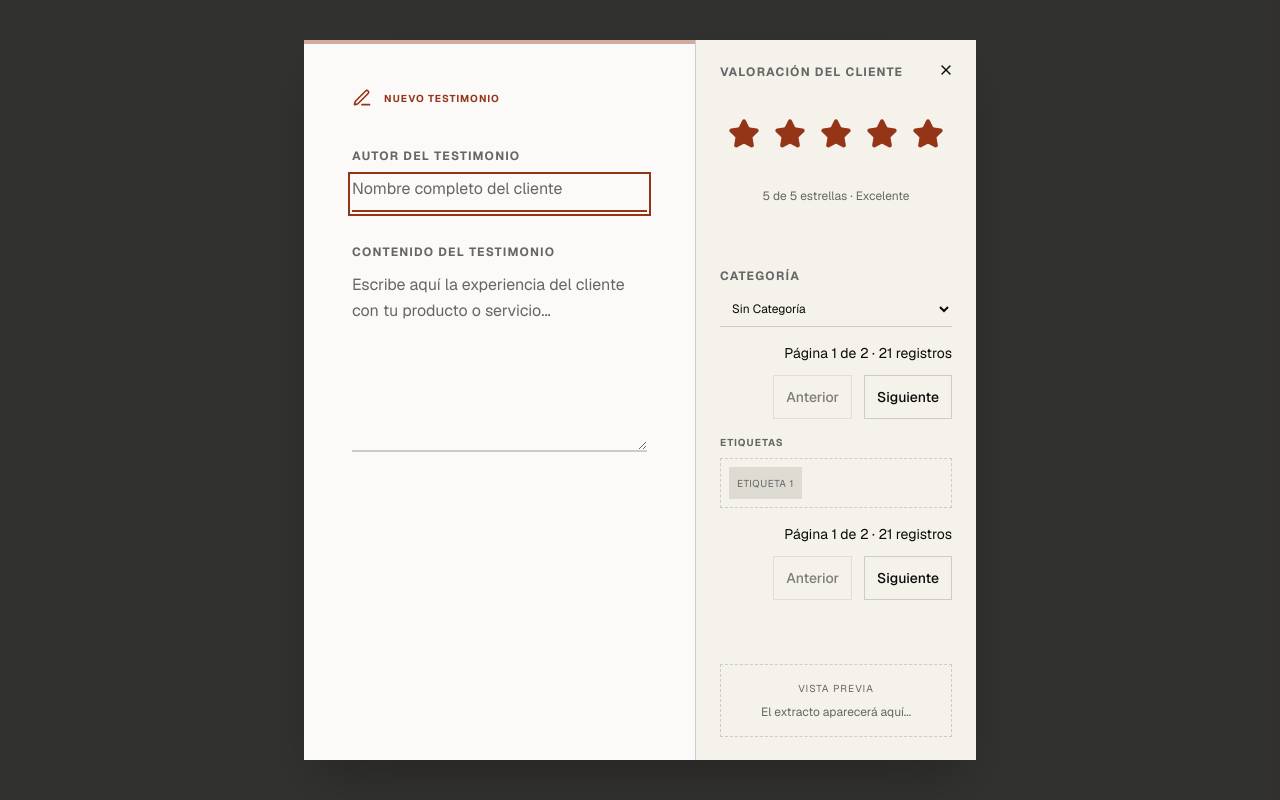
Test: Creación y borradores › bloquea submits repetidos y cierre mientras espera; conserva texto ante error
Type "Autor sintético" into the field labelled "Autor del testimonio". click: (500, 194)
box: x1=352 y1=176 x2=647 y2=212
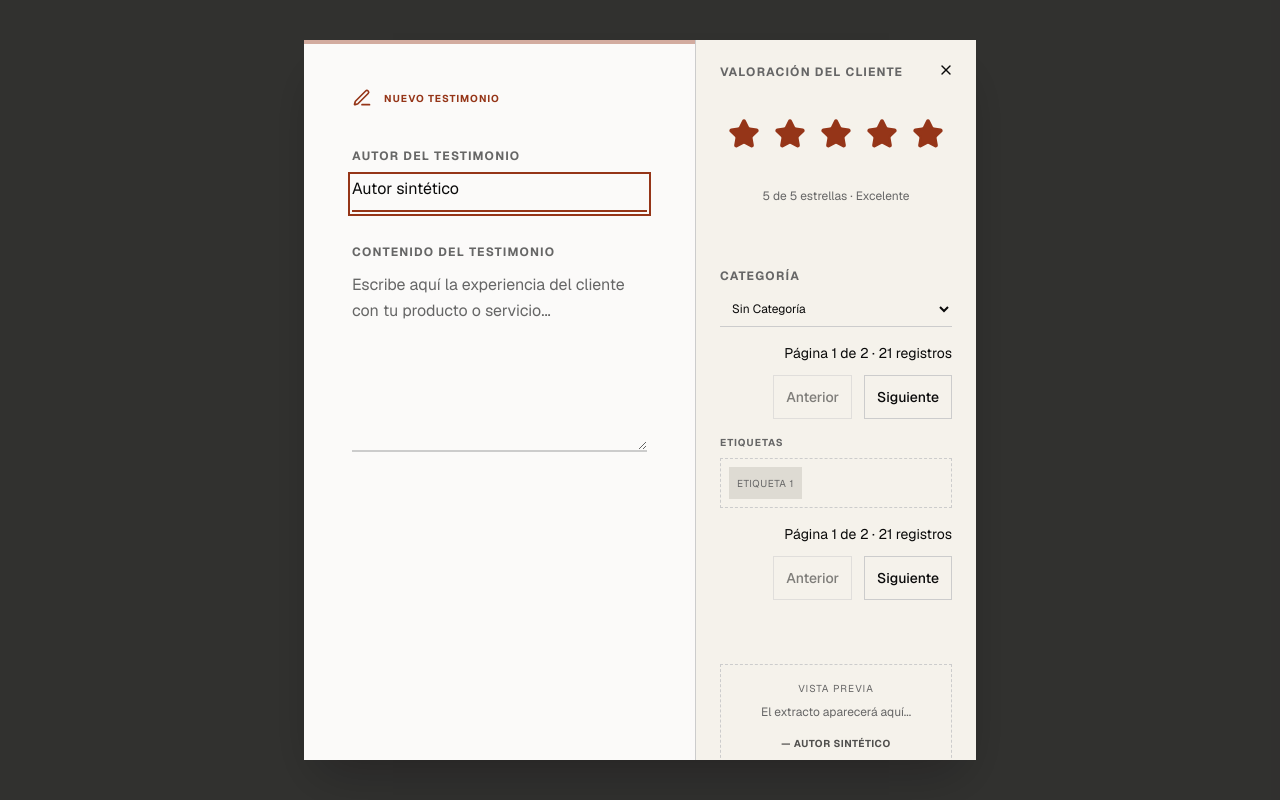
Type "Un borrador que debe conservarse" into the text box labelled "Contenido del testimonio". click: (500, 362)
box: x1=352 y1=272 x2=647 y2=452
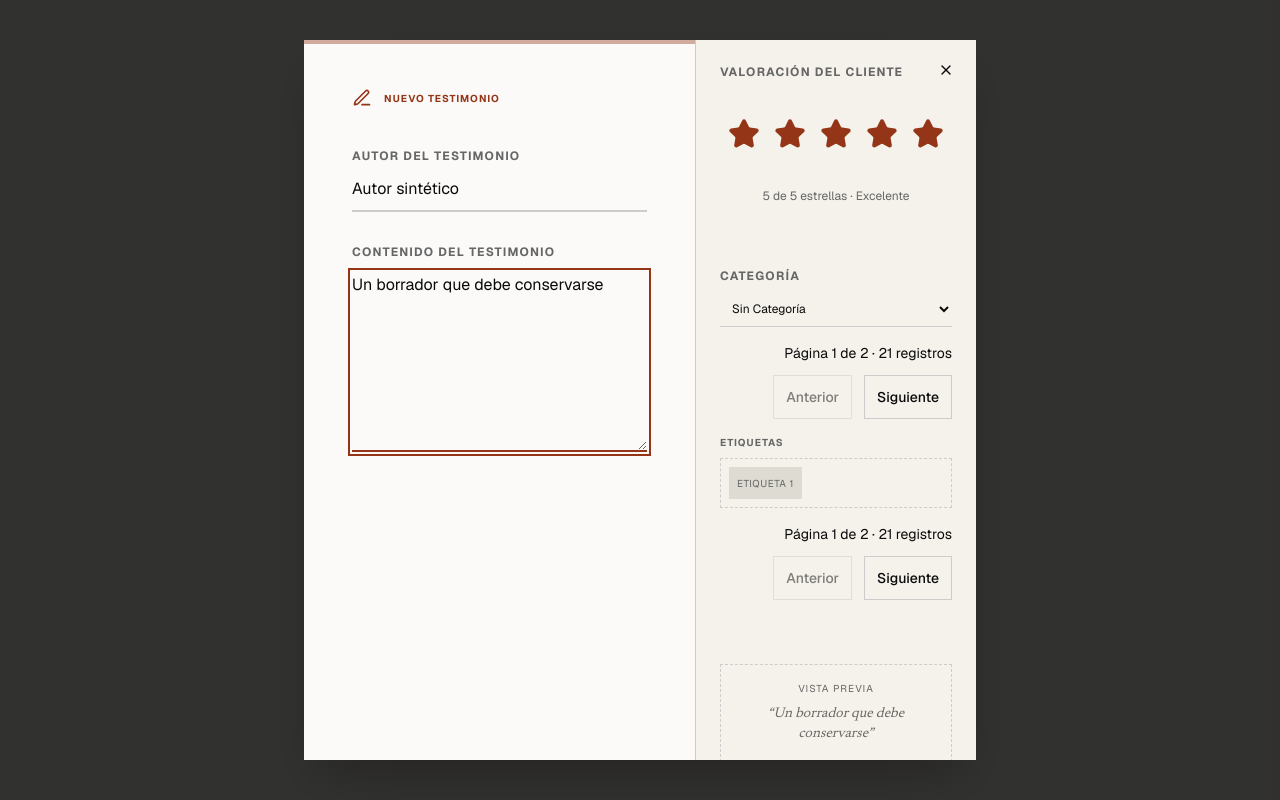
Submit the form named "Autor del testimonio", box x1=304 y1=40 x2=976 y2=760
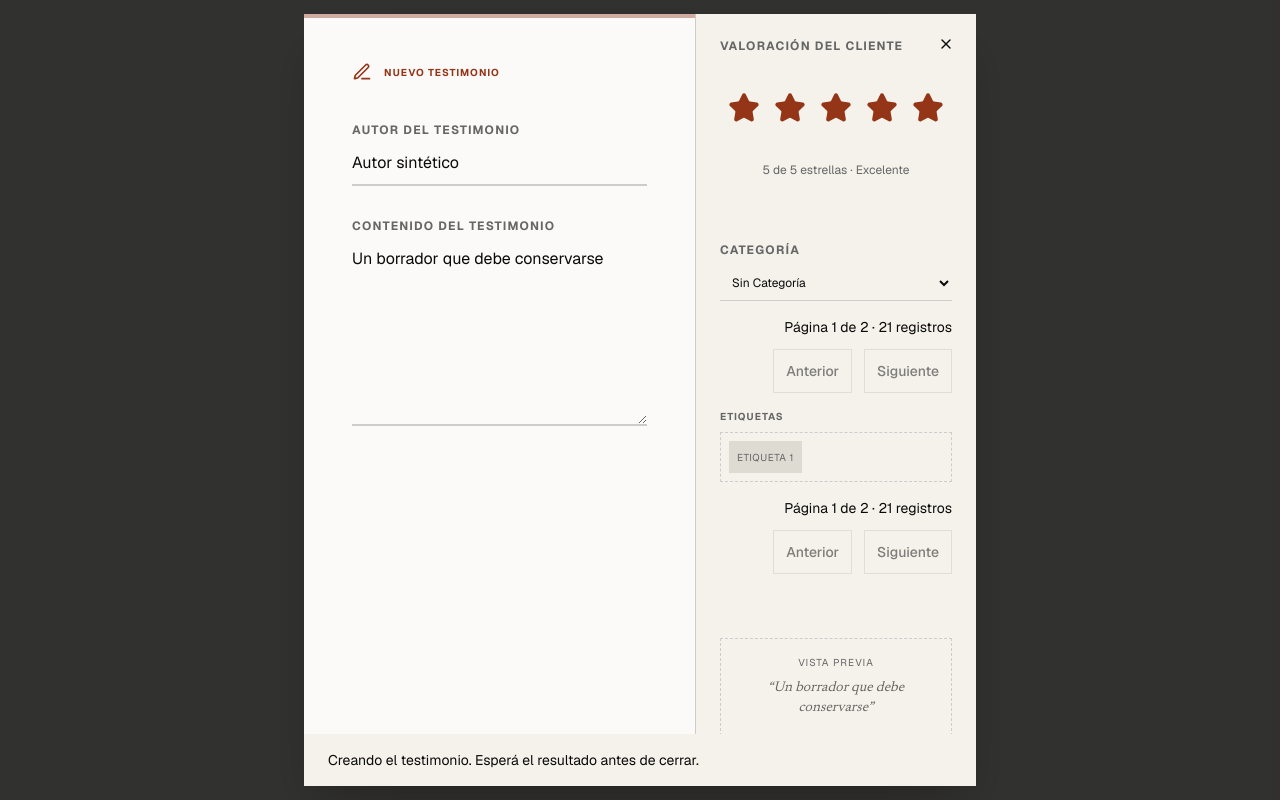
Submit the form named "Autor del testimonio", box x1=304 y1=14 x2=976 y2=734
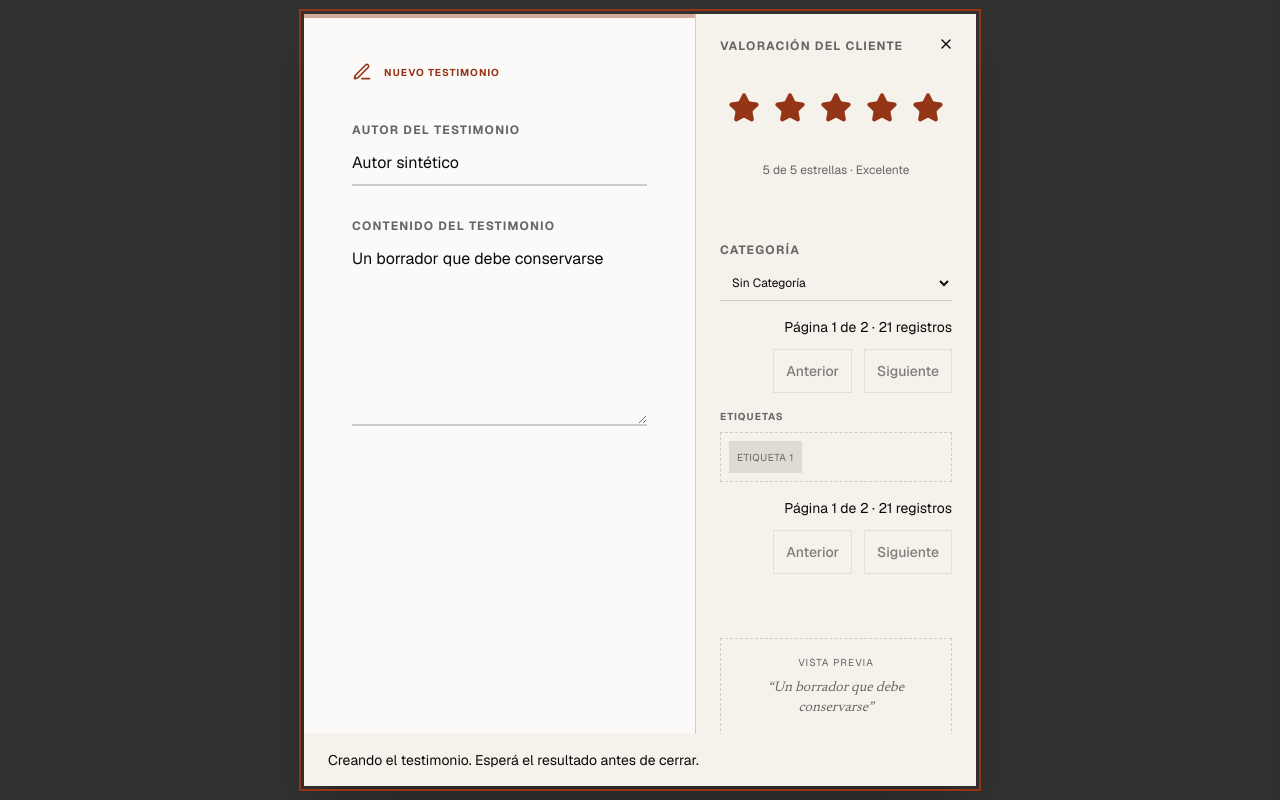
Press Escape
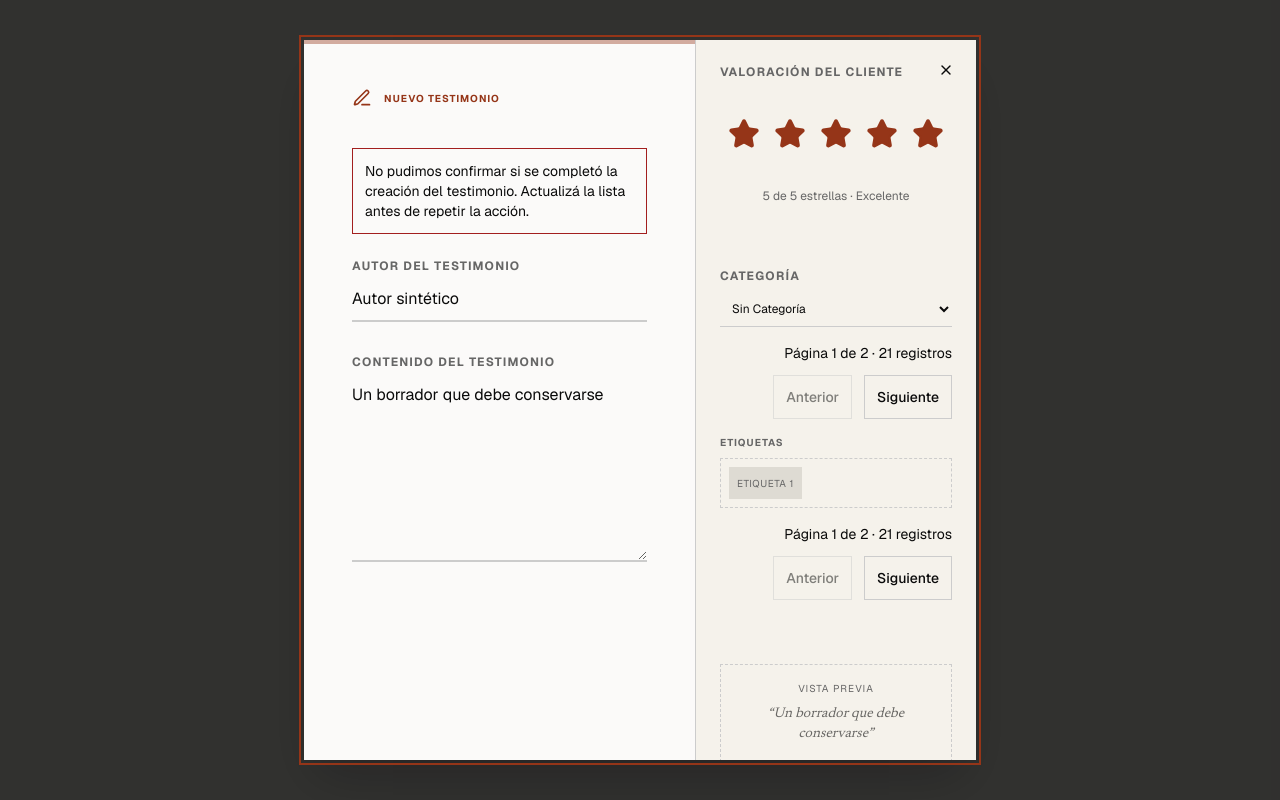
Now the 1st message shows "No pudimos confirmar si se completó", box x1=365 y1=162 x2=625 y2=220
